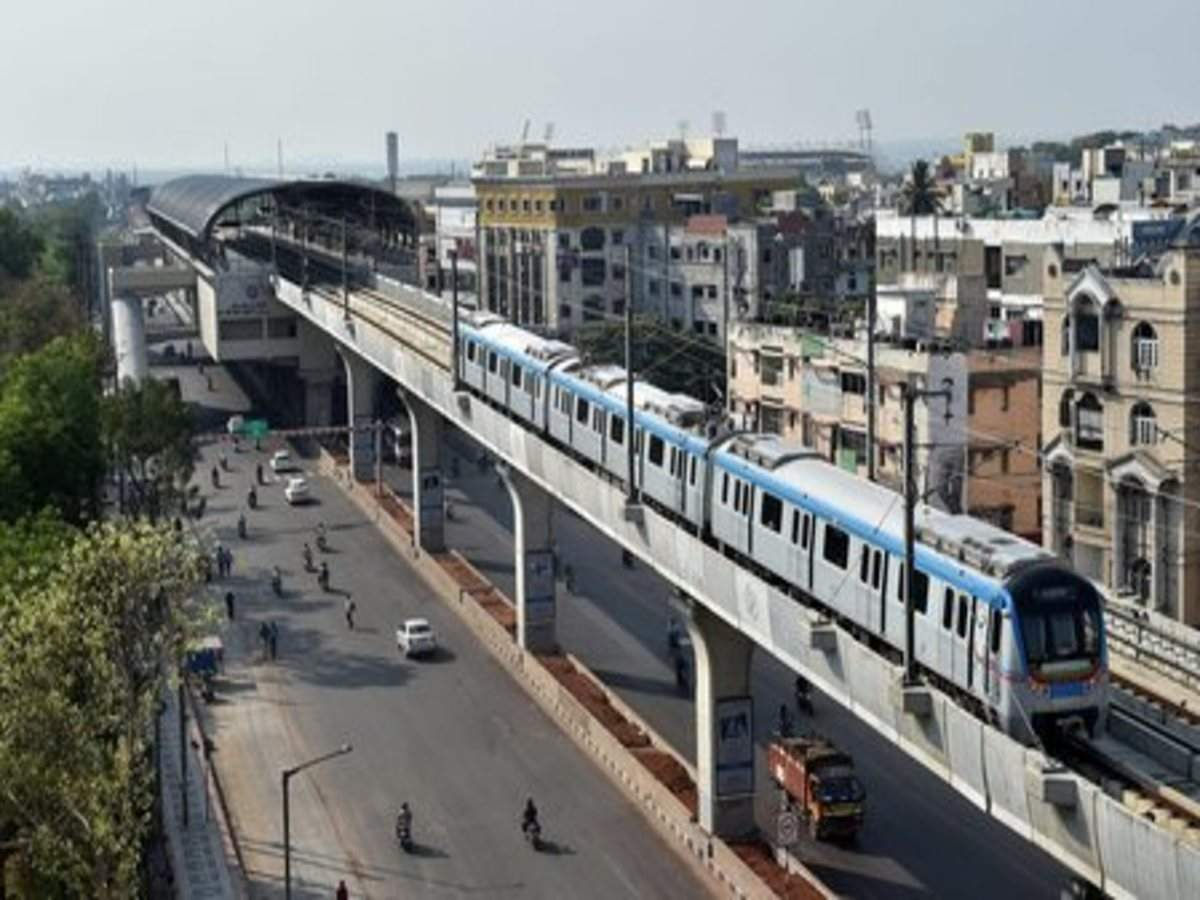bike: (517, 810, 548, 848), (393, 813, 415, 848), (243, 484, 261, 512), (270, 565, 283, 598), (209, 459, 222, 492), (312, 522, 327, 549), (253, 461, 268, 488), (237, 511, 250, 541), (302, 538, 312, 575), (346, 598, 356, 626), (317, 562, 327, 589)
car: (391, 612, 437, 655), (281, 477, 311, 508), (271, 451, 291, 474)
train: (449, 291, 1112, 744)
